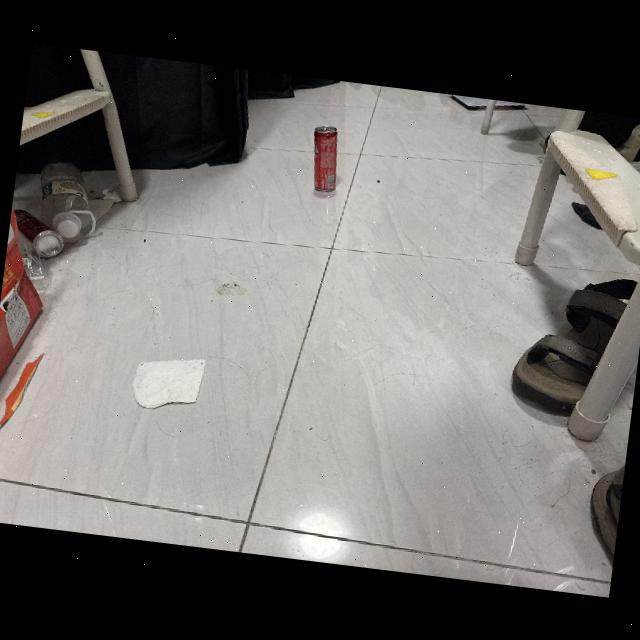Cola: (298, 120, 346, 198)
